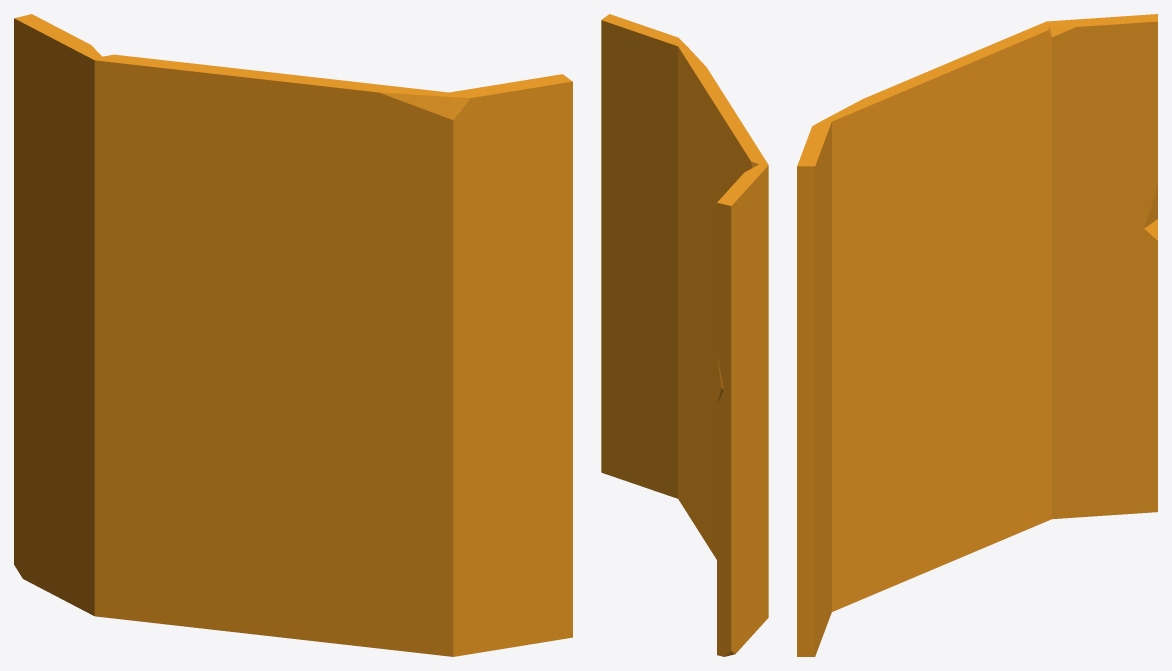
File: SM_Buildings_WallChamfered_2x2_01P.fbx
The picture shows the model from 3 angles, left to right: view 1: azimuth 30°, elevation 25°; view 2: azimuth 150°, elevation 25°; view 3: azimuth 270°, elevation 25°; orthographic projection. The views are drawn at different scales.
Visible parts, largest first — view 1: SM_Buildings_WallChamfered_2x2_01P; view 2: SM_Buildings_WallChamfered_2x2_01P; view 3: SM_Buildings_WallChamfered_2x2_01P.
Boxes of the visible parts, x1,y1,x2,y2 form: SM_Buildings_WallChamfered_2x2_01P: (14,14,572,656); SM_Buildings_WallChamfered_2x2_01P: (601,14,768,656); SM_Buildings_WallChamfered_2x2_01P: (797,14,1157,656).
Size of the model in its own units: 200 by 300 by 200.
